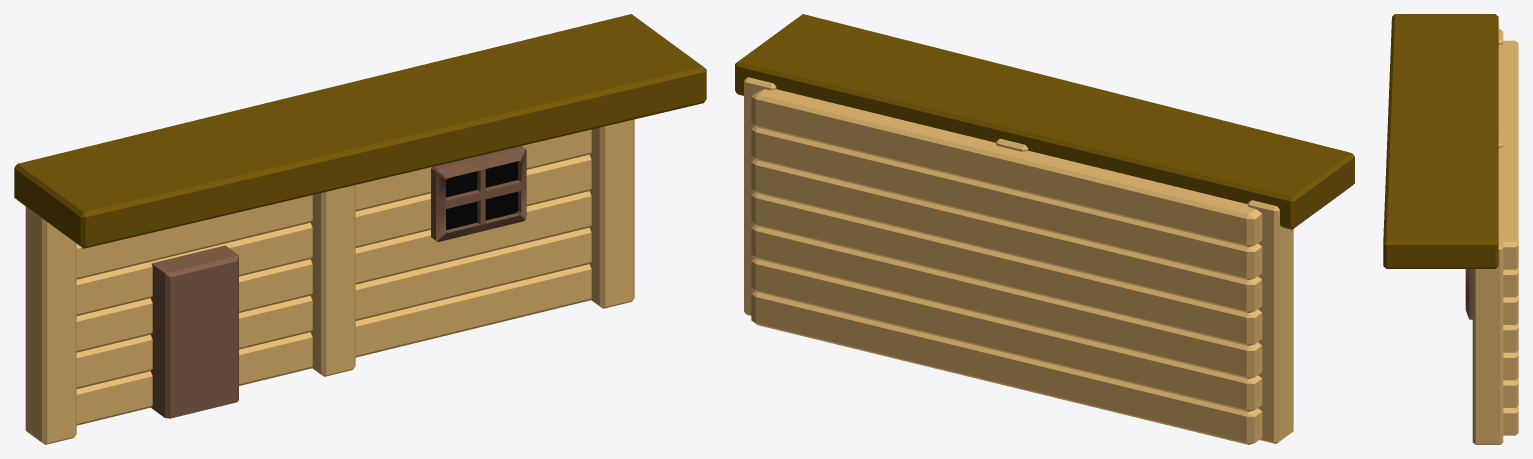
File: Shack1.fbx
The picture shows the model from 3 angles, left to right: view 1: azimuth 30°, elevation 25°; view 2: azimuth 150°, elevation 25°; view 3: azimuth 270°, elevation 25°; orthographic projection. The views are drawn at different scales.
Visible parts, largest first — view 1: pCube13; view 2: pCube13; view 3: pCube13.
Boxes of the visible parts, x1=… form: pCube13: x1=14, y1=14, x2=706, y2=444; pCube13: x1=735, y1=14, x2=1354, y2=444; pCube13: x1=1383, y1=14, x2=1518, y2=444.
Bounding box in the file's own units: 17.8 × 7.54 × 4.44.
